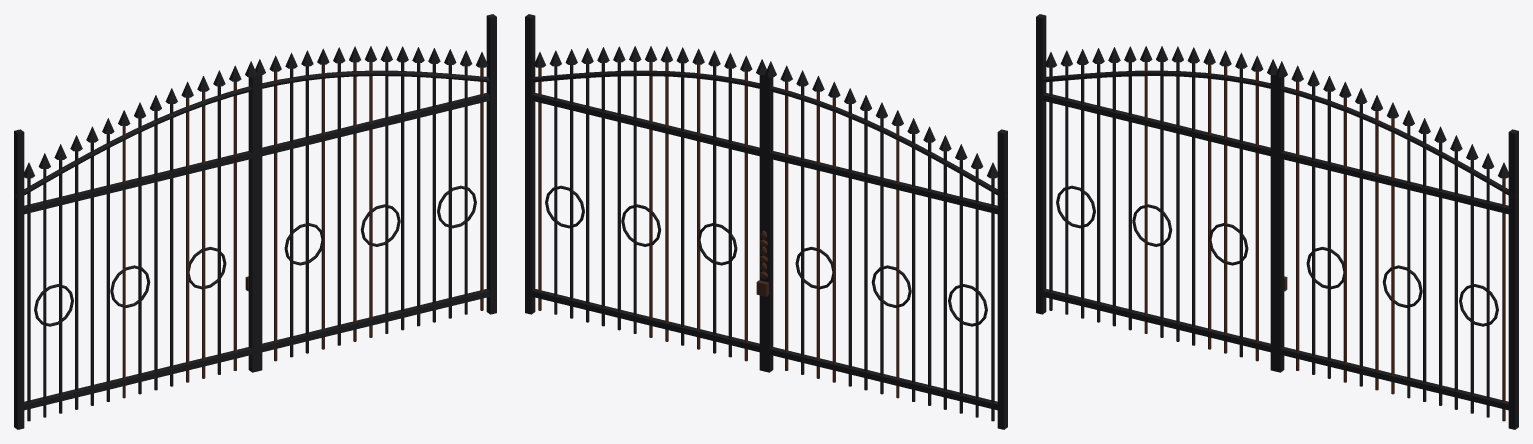
The model's file is SM_ENV_PortaoFerro.fbx.
The picture shows the model from 3 angles, left to right: view 1: azimuth 30°, elevation 25°; view 2: azimuth 150°, elevation 25°; view 3: azimuth 330°, elevation 25°; orthographic projection.
Visible parts, largest first — view 1: SM_ENV_PortaoFerro; view 2: SM_ENV_PortaoFerro; view 3: SM_ENV_PortaoFerro.
Part boxes in pixels (x1,y1,x2,y2): SM_ENV_PortaoFerro: (14, 14, 496, 429); SM_ENV_PortaoFerro: (525, 14, 1007, 429); SM_ENV_PortaoFerro: (1036, 14, 1518, 429).
Size of the model in its own units: 4.41 by 2.72 by 0.13.
